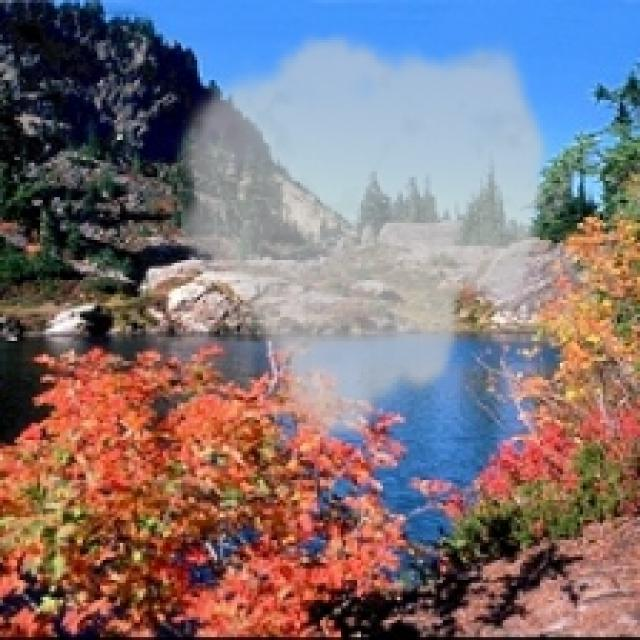smoke: (166, 29, 554, 452)
